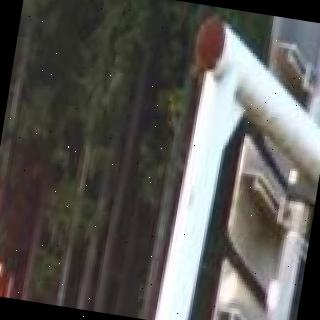fire: (0, 111, 34, 297)
